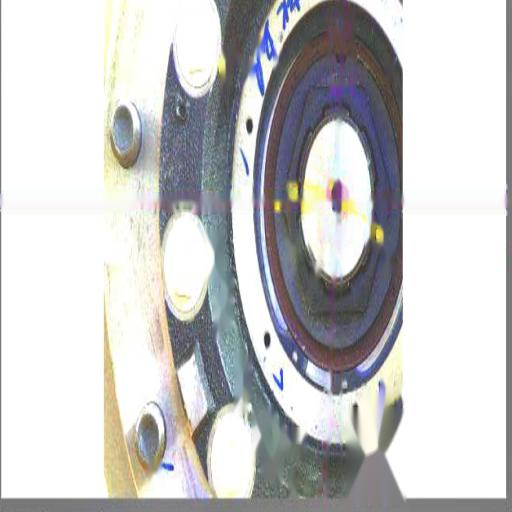center: (329, 182, 347, 218)
notch: (331, 48, 351, 74)
